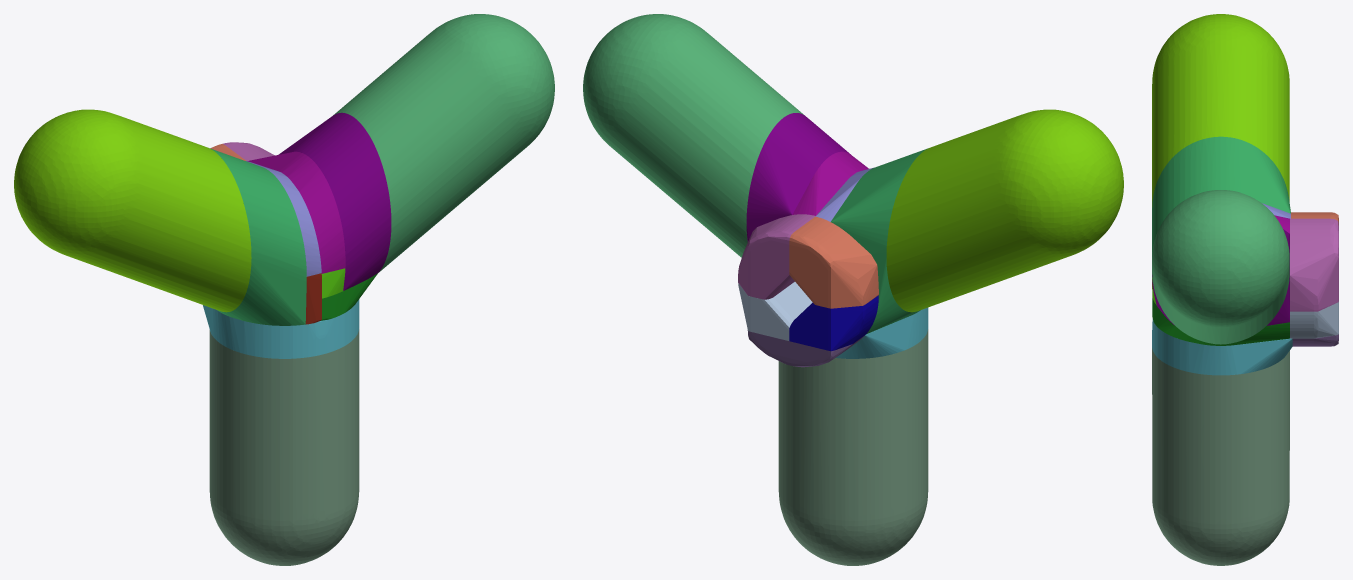
Rendered from triValve_up_collision.obj.
3 renders of one model, left to right at view 1: azimuth 30°, elevation 25°; view 2: azimuth 150°, elevation 25°; view 3: azimuth 270°, elevation 25°, orthographic. The views are drawn at different scales.
Parts seen in each view (by area): view 1: geometry_4, geometry_0, geometry_3, geometry_11, geometry_10, geometry_2, geometry_14, geometry_12, geometry_8, geometry_15; view 2: geometry_4, geometry_0, geometry_3, geometry_11, geometry_9, geometry_10, geometry_7, geometry_5, geometry_6, geometry_2, geometry_14, geometry_1 (+1 smaller); view 3: geometry_0, geometry_3, geometry_4, geometry_10, geometry_7, geometry_2, geometry_6, geometry_8, geometry_11, geometry_1, geometry_9.
Boxes of the visible parts, <box> form: geometry_4: <box>14,109,251,312</box>; geometry_0: <box>209,328,359,565</box>; geometry_3: <box>333,14,554,272</box>; geometry_11: <box>278,112,391,290</box>; geometry_10: <box>209,148,306,325</box>; geometry_2: <box>203,299,359,358</box>; geometry_14: <box>247,151,345,273</box>; geometry_12: <box>246,161,321,276</box>; geometry_8: <box>321,273,377,320</box>; geometry_15: <box>305,273,321,324</box>; geometry_4: <box>886,109,1123,312</box>; geometry_0: <box>778,329,928,565</box>; geometry_3: <box>583,14,804,257</box>; geometry_11: <box>746,113,850,241</box>; geometry_9: <box>789,216,878,308</box>; geometry_10: <box>831,148,928,334</box>; geometry_7: <box>738,214,815,299</box>; geometry_5: <box>789,295,878,351</box>; geometry_6: <box>738,282,812,340</box>; geometry_2: <box>835,307,928,358</box>; geometry_14: <box>792,151,868,215</box>; geometry_1: <box>747,330,864,367</box>; geometry_0: <box>1152,348,1289,565</box>; geometry_3: <box>1152,190,1289,344</box>; geometry_4: <box>1152,14,1289,206</box>; geometry_10: <box>1152,136,1290,256</box>; geometry_7: <box>1290,218,1338,311</box>; geometry_2: <box>1152,319,1292,375</box>; geometry_6: <box>1290,301,1338,338</box>; geometry_8: <box>1152,298,1289,345</box>; geometry_11: <box>1152,229,1289,325</box>; geometry_1: <box>1292,334,1338,346</box>; geometry_9: <box>1291,212,1338,225</box>.
Bounding box in the file's own units: 164 × 147 × 55.27.
